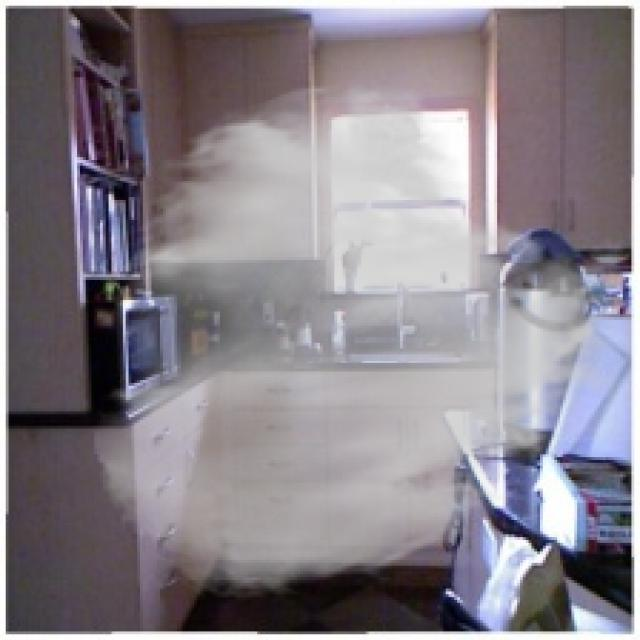smoke: (89, 80, 634, 603)
